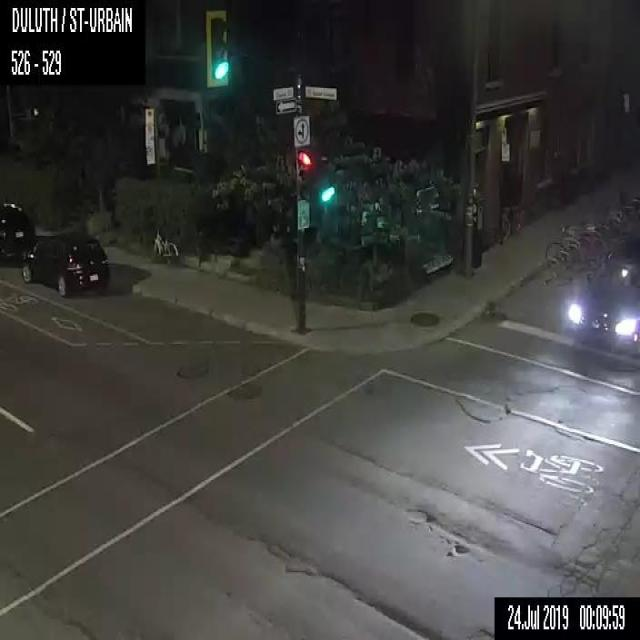vehicle: (565, 242, 639, 352), (20, 232, 110, 299), (0, 202, 35, 261)
